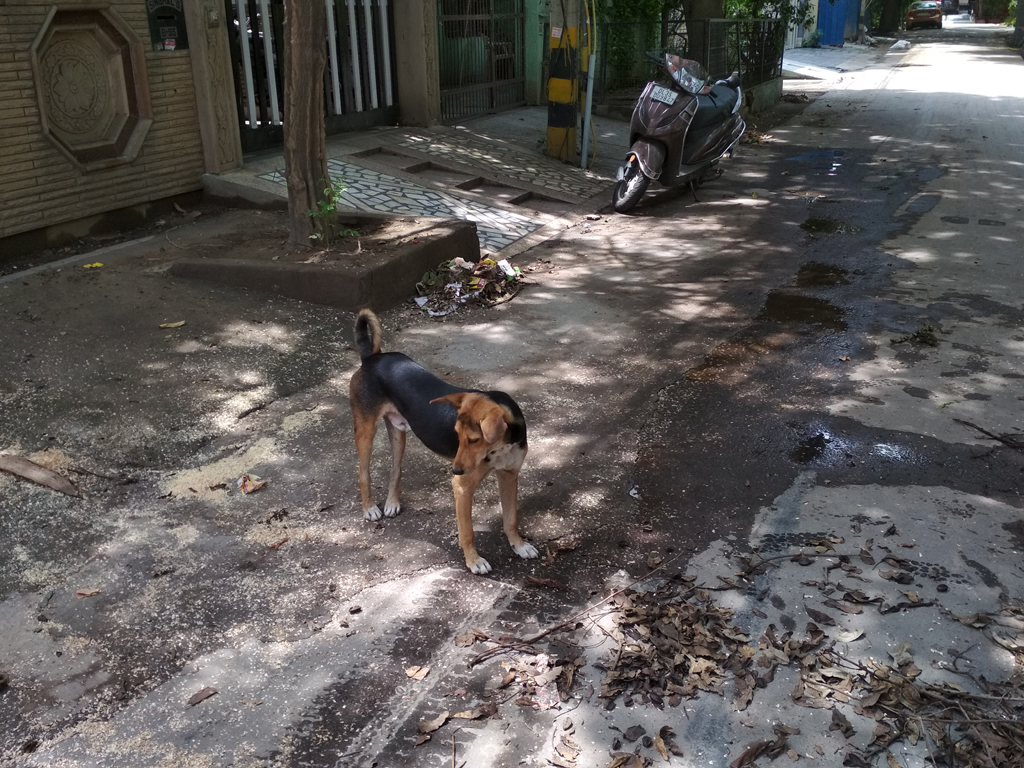dog: (350, 308, 538, 573)
